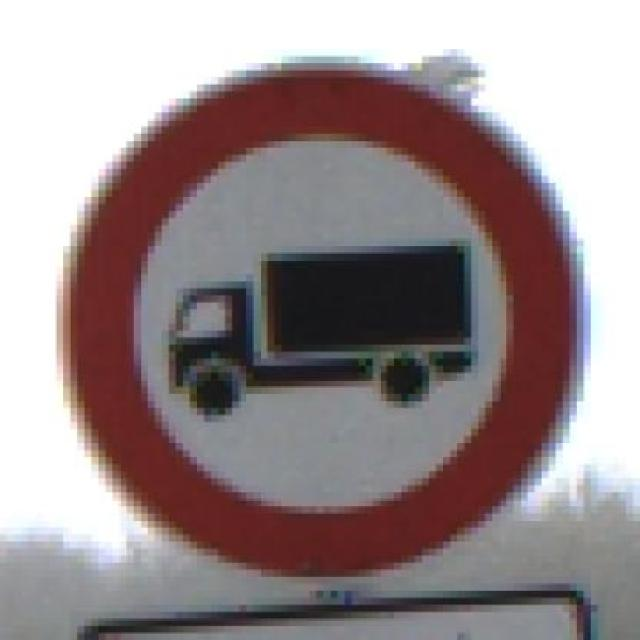Truck traffic is prohibited: (49, 70, 605, 584)
